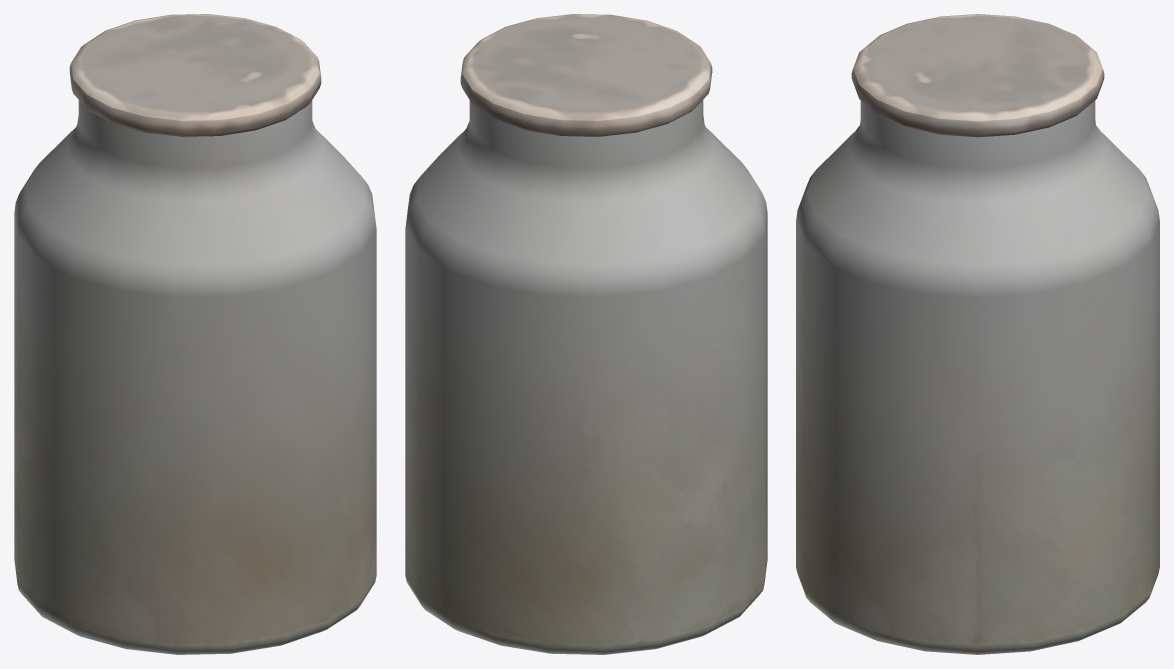
File: SM_FoodPot_14.fbx
3 renders of one model, left to right at view 1: azimuth 30°, elevation 25°; view 2: azimuth 150°, elevation 25°; view 3: azimuth 270°, elevation 25°, orthographic.
Visible parts, largest first — view 1: SM_FoodPot_14_LOD0; view 2: SM_FoodPot_14_LOD0; view 3: SM_FoodPot_14_LOD0.
Part boxes in pixels (left/top/right/bottom): SM_FoodPot_14_LOD0: left=14, top=14, right=376, bottom=654; SM_FoodPot_14_LOD0: left=405, top=14, right=767, bottom=654; SM_FoodPot_14_LOD0: left=796, top=14, right=1159, bottom=654.
Bounding box in the file's own units: 15.83 × 15.83 × 24.97.
Materials: 2 (2 with a texture image).
